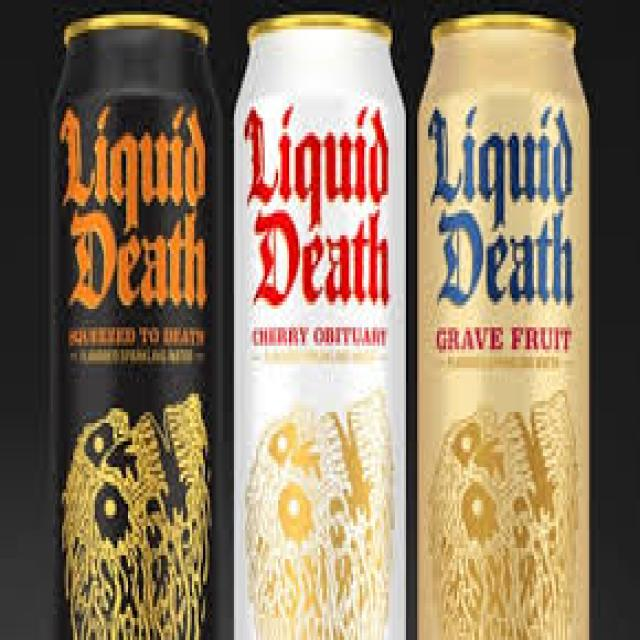Cans: (408, 7, 600, 640), (227, 3, 412, 640), (44, 11, 221, 640)
